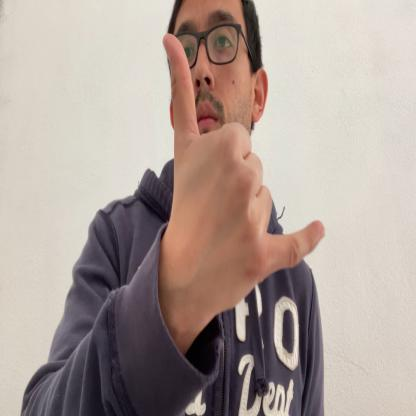Y: (161, 34, 326, 296)
